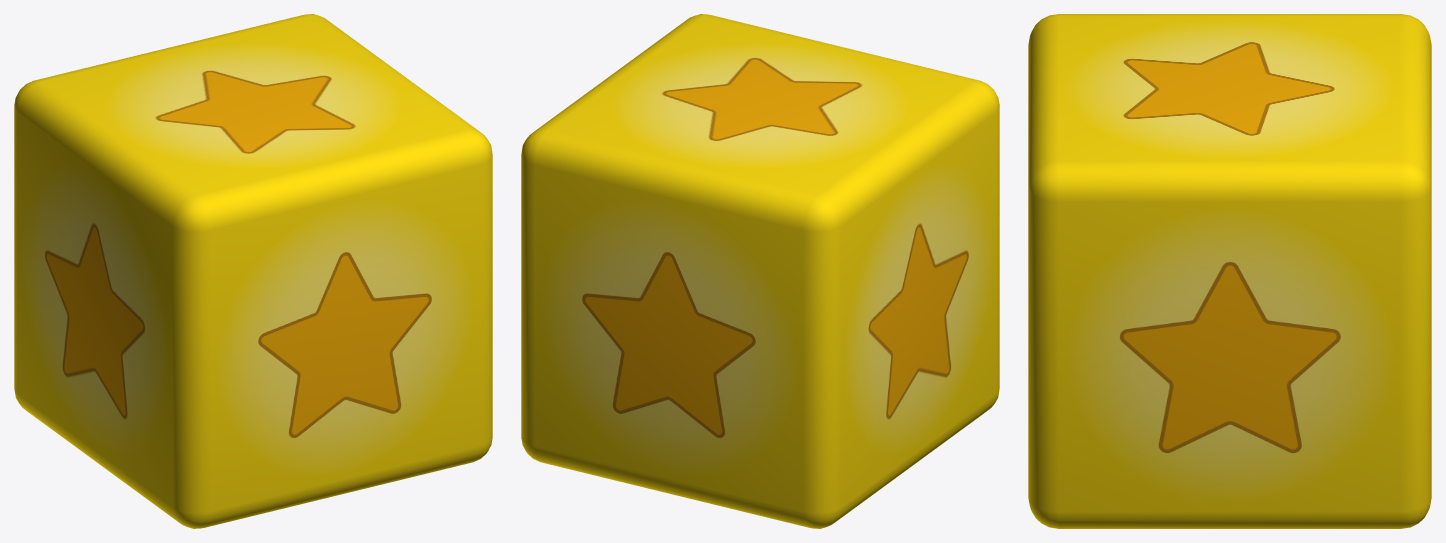
File: yellow plastic box.fbx
The picture shows the model from 3 angles, left to right: view 1: azimuth 30°, elevation 25°; view 2: azimuth 150°, elevation 25°; view 3: azimuth 270°, elevation 25°; orthographic projection. The views are drawn at different scales.
Visible parts, largest first — view 1: Cube; view 2: Cube; view 3: Cube.
Part boxes in pixels (bbox=[...]): Cube: bbox=[14, 14, 492, 528]; Cube: bbox=[521, 14, 999, 528]; Cube: bbox=[1028, 14, 1431, 528].
Size of the model in its own units: 200 by 200 by 200.
1 material, 1 textured.
